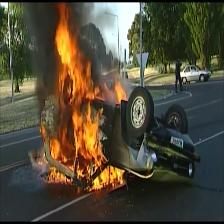fire: (37, 2, 127, 190), (116, 82, 128, 105)
